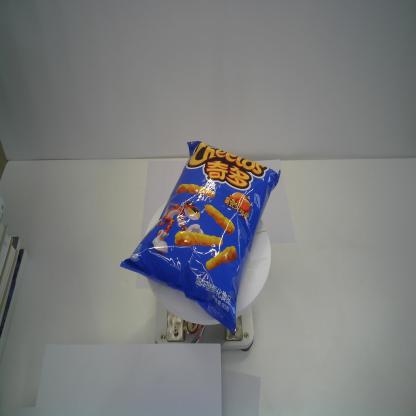Puffed Food: (118, 138, 280, 336)
